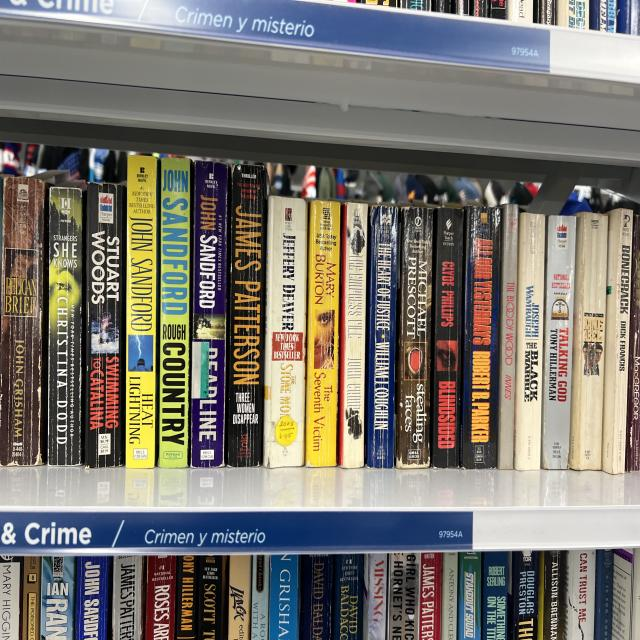book: (223, 165, 269, 467), (0, 177, 48, 465), (83, 183, 126, 467), (189, 162, 229, 467), (263, 197, 307, 467), (424, 208, 468, 468), (568, 211, 609, 471), (158, 158, 192, 467), (394, 207, 434, 469), (461, 207, 501, 468), (48, 187, 84, 465), (126, 156, 157, 468), (305, 201, 341, 466), (364, 206, 398, 468), (541, 216, 576, 469), (513, 213, 546, 470), (337, 203, 369, 468), (601, 209, 633, 473), (495, 205, 520, 469)
